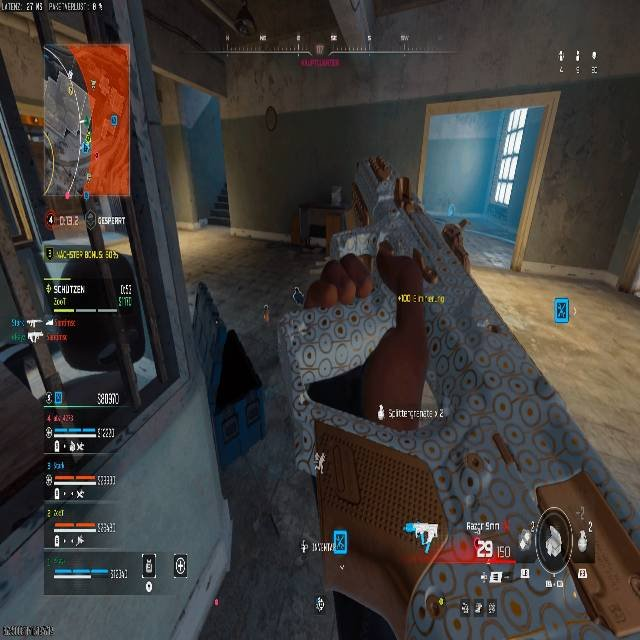player: (442, 218, 471, 270)
